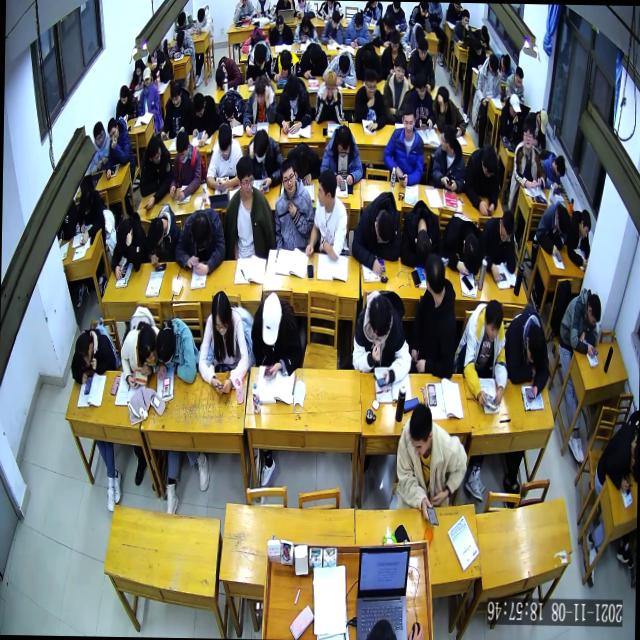bow: (504, 300, 550, 402), (349, 190, 402, 278), (173, 206, 226, 278), (153, 313, 200, 382), (118, 318, 160, 390), (440, 210, 484, 278), (398, 196, 442, 264), (70, 324, 116, 386), (243, 128, 286, 189), (142, 200, 180, 264), (536, 200, 570, 254), (432, 84, 467, 136), (188, 92, 218, 148), (565, 207, 592, 269), (285, 140, 321, 186), (322, 48, 358, 88), (296, 40, 330, 80), (354, 38, 383, 82), (216, 86, 244, 130), (270, 48, 300, 84), (215, 56, 242, 92), (240, 24, 270, 54), (400, 21, 426, 53), (152, 47, 174, 83), (168, 27, 194, 56), (173, 11, 194, 40), (496, 49, 512, 77)
down: (407, 401, 433, 458), (261, 288, 283, 348), (368, 292, 392, 342), (210, 290, 232, 338), (525, 322, 547, 366), (190, 212, 212, 254), (155, 325, 177, 366), (372, 208, 394, 247), (73, 332, 94, 372), (252, 129, 270, 165), (216, 120, 232, 160), (293, 143, 310, 180), (481, 142, 498, 178), (148, 215, 166, 249), (174, 128, 190, 164), (335, 122, 351, 158), (584, 292, 600, 328), (498, 208, 514, 244), (116, 216, 134, 248), (253, 74, 269, 108), (284, 75, 300, 106), (323, 68, 337, 100), (191, 91, 206, 120), (555, 205, 570, 234), (79, 184, 93, 214), (578, 207, 590, 241), (508, 91, 522, 120), (252, 40, 266, 68), (308, 41, 321, 69), (416, 34, 429, 62), (222, 93, 235, 121), (553, 153, 566, 180), (336, 54, 350, 79), (279, 48, 293, 72), (170, 78, 182, 106), (536, 106, 548, 134), (80, 371, 93, 396), (382, 9, 394, 34), (390, 26, 400, 54), (118, 84, 130, 107), (487, 52, 499, 75), (513, 66, 524, 90), (330, 8, 340, 30), (500, 52, 510, 74), (175, 30, 185, 50), (176, 9, 186, 29), (274, 13, 284, 33), (300, 12, 310, 32), (353, 10, 363, 30), (460, 8, 470, 28), (134, 57, 143, 77), (156, 49, 165, 69), (196, 6, 206, 24), (473, 36, 482, 56), (480, 23, 488, 40)
lookup: (235, 155, 256, 199), (484, 296, 504, 342), (280, 158, 298, 196), (400, 100, 416, 136), (362, 69, 378, 100), (392, 54, 407, 85), (413, 72, 428, 100), (521, 122, 534, 150), (106, 115, 119, 141), (142, 66, 152, 86)
sit: (394, 399, 469, 527), (408, 250, 459, 382), (350, 287, 413, 388), (454, 296, 510, 408), (222, 154, 276, 263), (197, 288, 250, 393), (250, 291, 304, 384), (304, 165, 350, 262), (273, 156, 315, 250), (382, 98, 424, 185), (593, 422, 638, 494), (558, 284, 602, 356), (320, 122, 364, 190), (462, 142, 500, 218), (480, 209, 518, 283), (206, 120, 244, 191), (138, 134, 172, 211), (431, 122, 467, 194), (168, 130, 202, 202), (110, 211, 146, 279), (512, 122, 548, 190), (353, 67, 388, 135), (273, 73, 312, 134), (242, 73, 278, 138), (159, 80, 193, 144), (382, 54, 412, 126), (104, 114, 132, 182), (76, 183, 105, 244), (314, 69, 344, 126), (408, 33, 436, 90), (408, 70, 434, 130), (474, 51, 502, 106), (380, 27, 406, 78), (244, 40, 273, 84), (137, 65, 160, 117), (498, 92, 522, 140), (88, 120, 110, 172), (540, 150, 566, 192), (342, 10, 370, 48), (524, 106, 548, 150), (370, 10, 396, 48), (114, 85, 138, 124), (320, 9, 344, 46), (504, 66, 525, 106), (268, 12, 294, 44), (292, 11, 318, 43), (452, 8, 472, 48), (466, 36, 486, 71), (129, 56, 147, 90), (194, 2, 213, 34), (474, 24, 490, 50)
